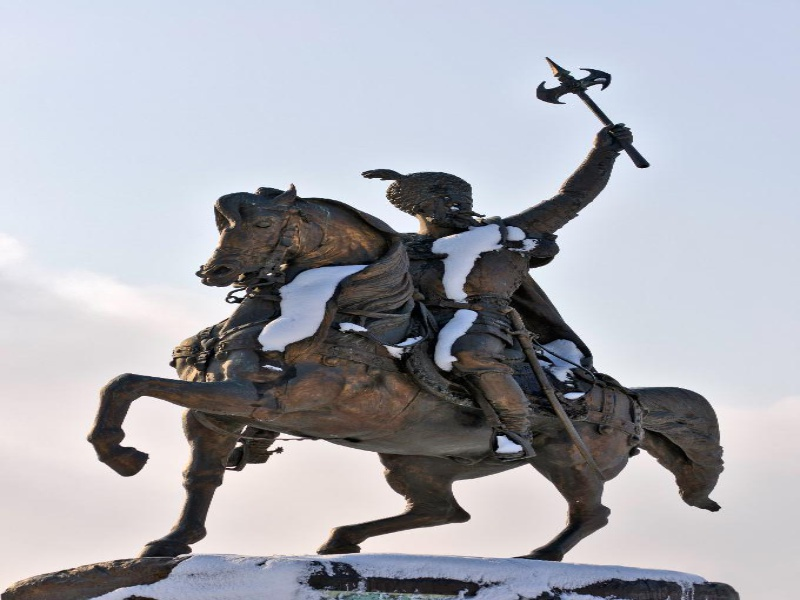axe: (523, 46, 622, 113)
